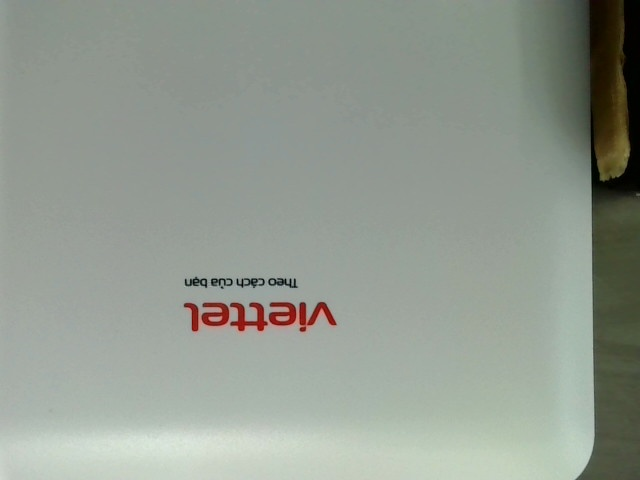AY_Viettel: (176, 272, 338, 335)
